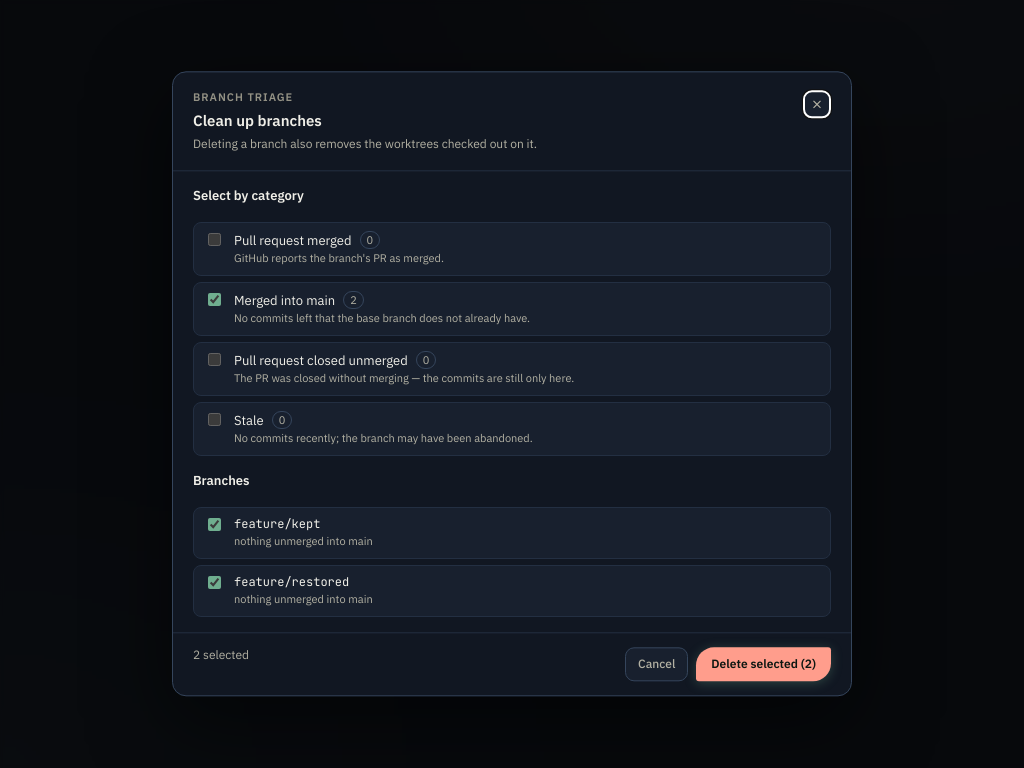
Test: a mixed no_receipt and cleanup_failed run drops the heading tail
Click the button "Delete selected (2)" at [764, 664], box top-left (696, 647), bottom-right (831, 682)
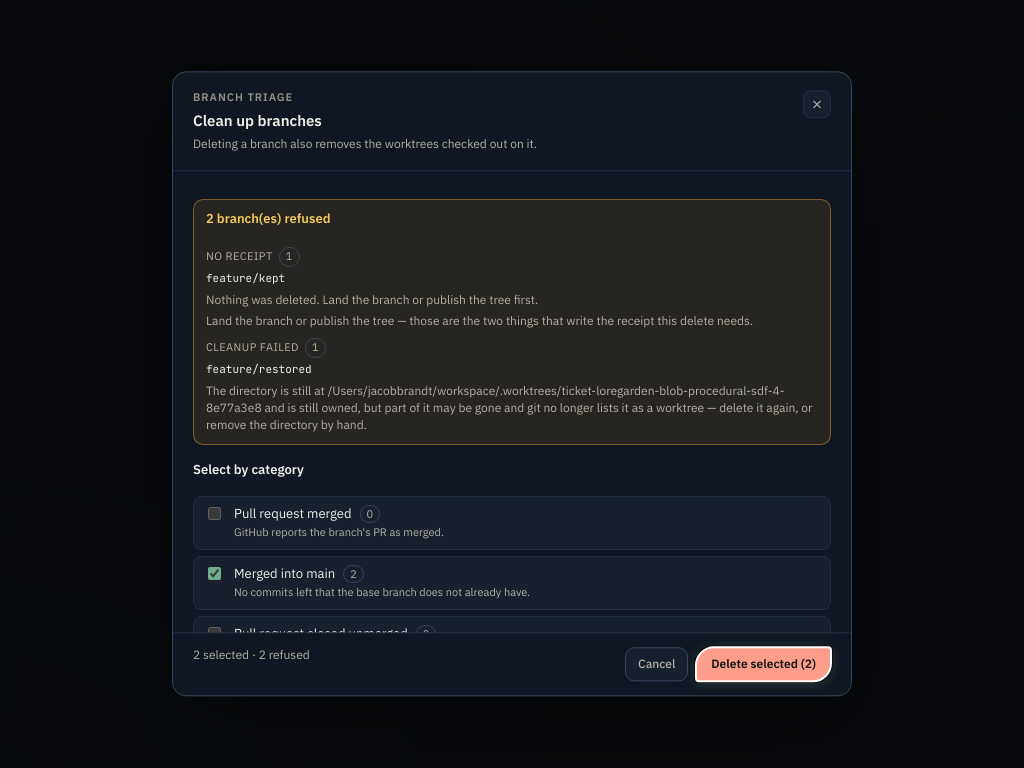
Expected: the number of messages with class "branch-cleanup-refusals" is 1, top-left (193, 200), bottom-right (831, 445)
Expected: the text with class "modal-section-title" reads "2 branch(es) refused", top-left (206, 210), bottom-right (330, 228)
Expected: the message with class "branch-cleanup-refusals" shows "Cleanup failed", top-left (206, 340), bottom-right (299, 354)
